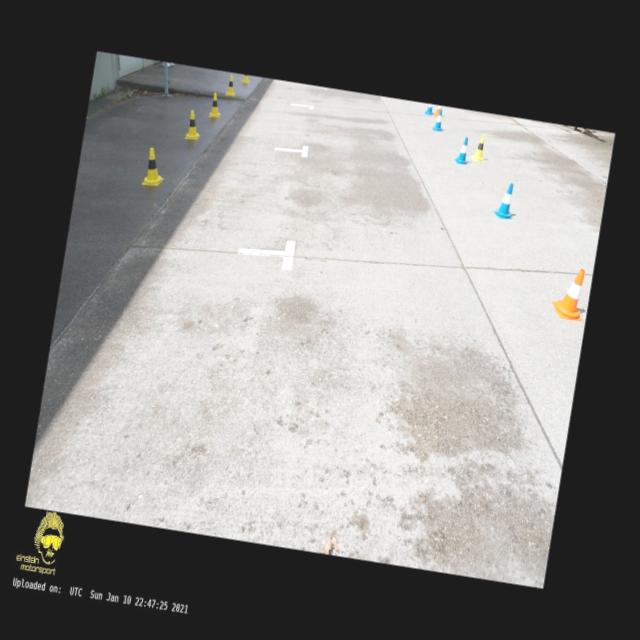blue_cone: (493, 181, 518, 220), (454, 136, 471, 164), (432, 108, 446, 131), (425, 104, 435, 115)
orange_cone: (550, 266, 590, 322), (433, 105, 441, 117)
yellow_cone: (141, 146, 168, 188), (184, 110, 203, 140), (471, 134, 488, 162), (208, 92, 224, 118), (225, 75, 238, 96), (240, 74, 250, 84)
